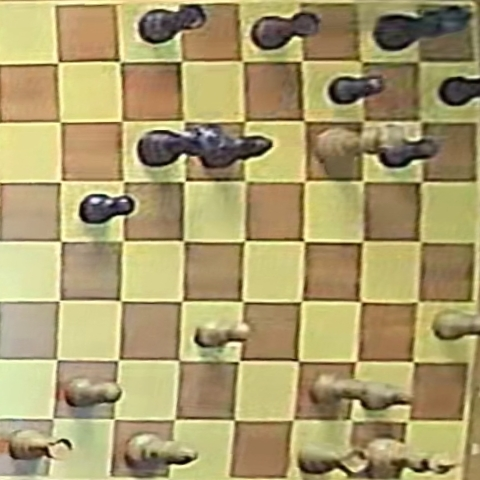black-bishop: (198, 132, 273, 170), (329, 73, 386, 105)
black-king: (374, 5, 471, 52)
black-pawn: (375, 135, 440, 170), (80, 193, 134, 224), (439, 75, 480, 106)
black-queen: (136, 125, 226, 168)
black-rook: (139, 4, 206, 44), (253, 11, 320, 50)
white-bishop: (126, 432, 198, 467)
white-king: (366, 437, 458, 475)
white-pawn: (311, 373, 369, 405), (354, 381, 412, 410), (65, 378, 121, 407), (195, 321, 250, 348), (433, 310, 479, 340)
white-queen: (314, 123, 406, 165)
white-rook: (298, 442, 367, 476), (4, 429, 73, 461)
